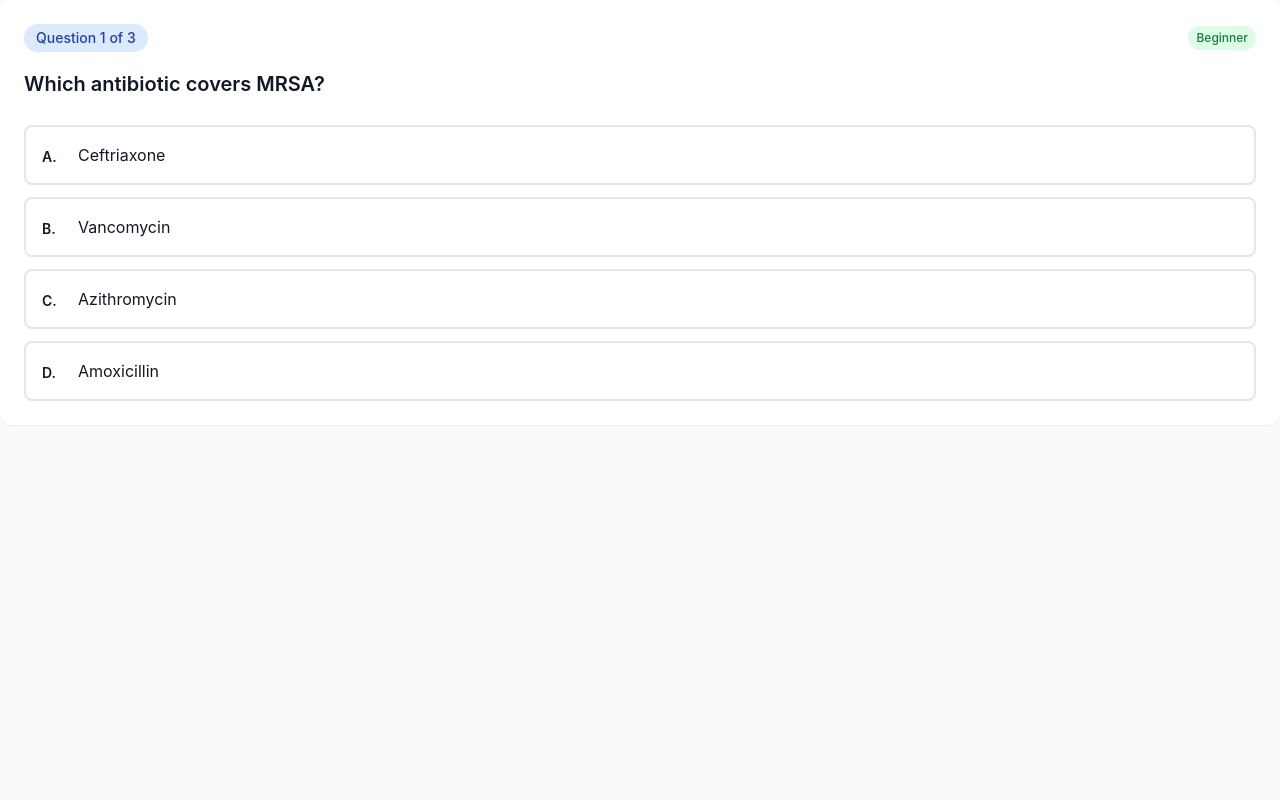
QuizSession › question flow › shows results after completing all questions
Answer question 1 (correct - Vancomycin is index 1)
Click the button with test id "option-1": point(124, 226) [24, 196, 1256, 256]
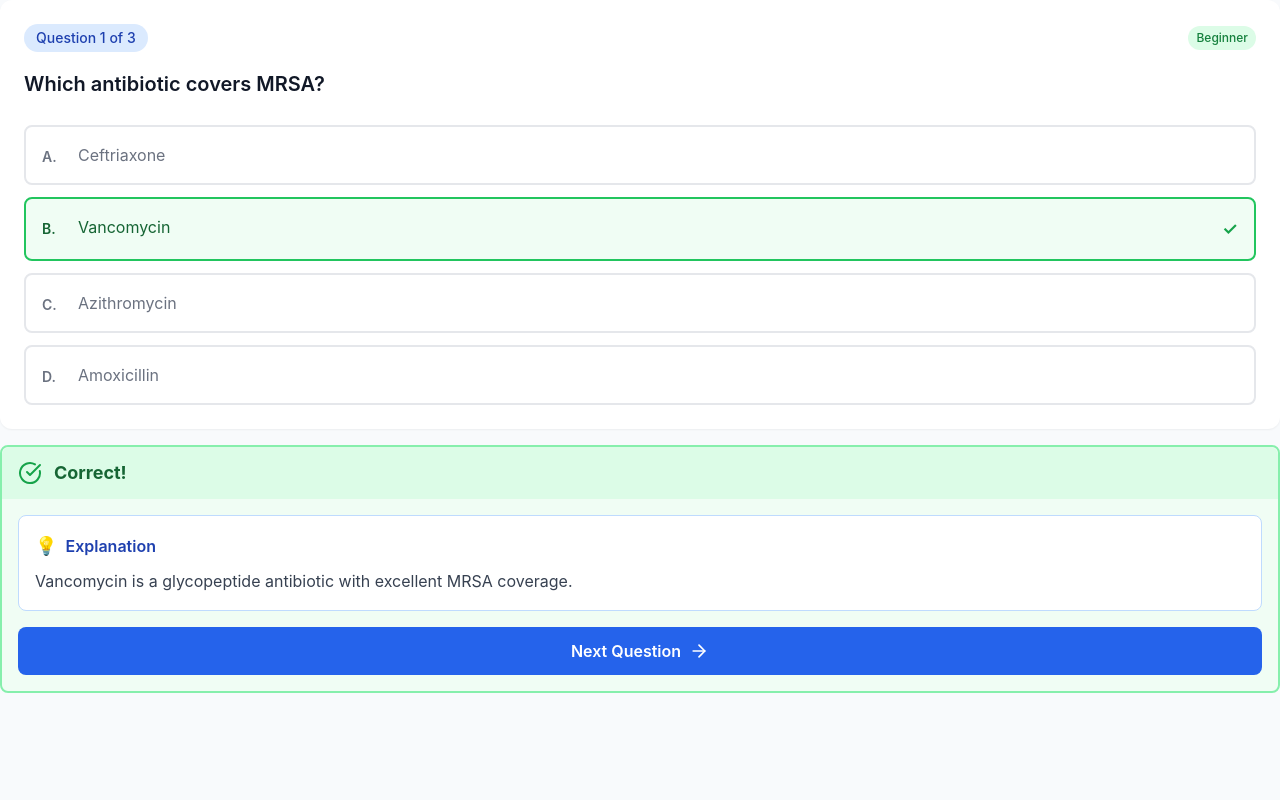
Click the button with test id "next-button": point(640, 650) [18, 626, 1262, 674]
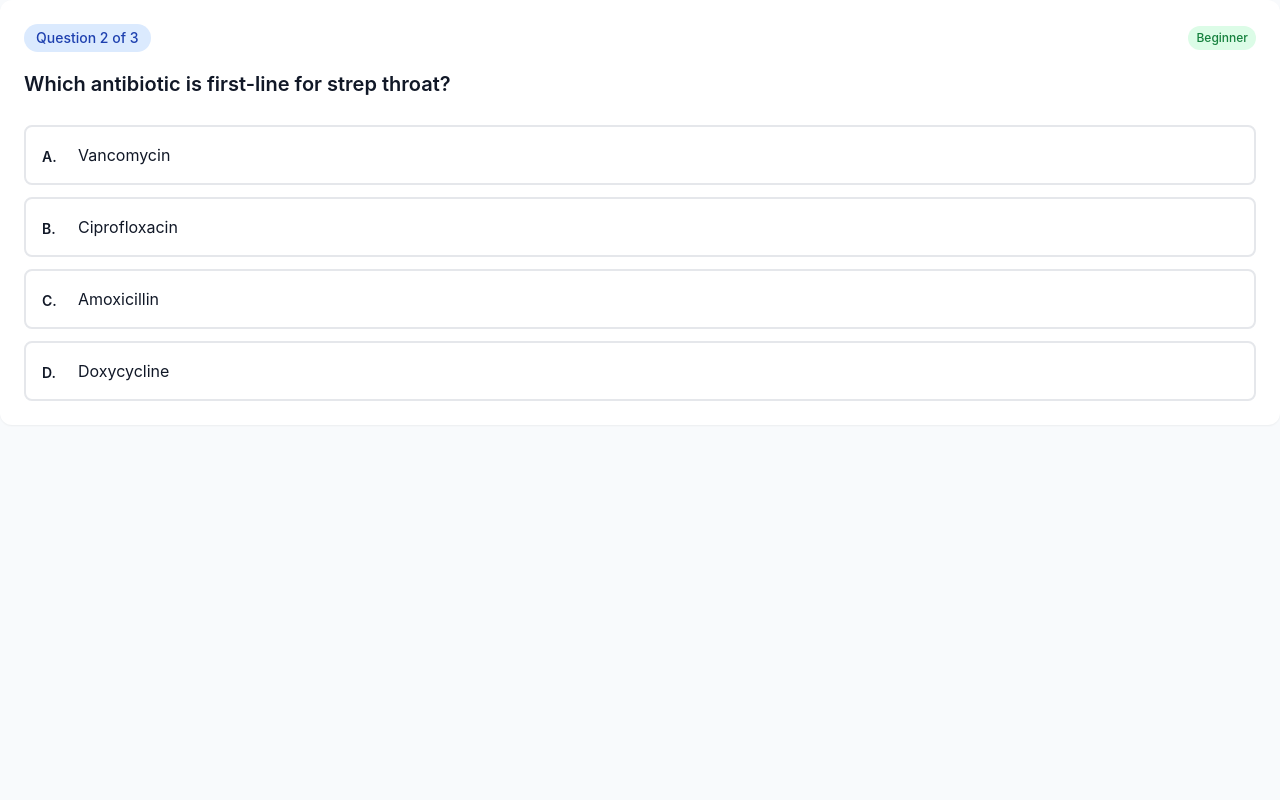
Answer question 2 (correct - Amoxicillin is index 2)
Click the button with test id "option-2": point(118, 298) [24, 268, 1256, 328]
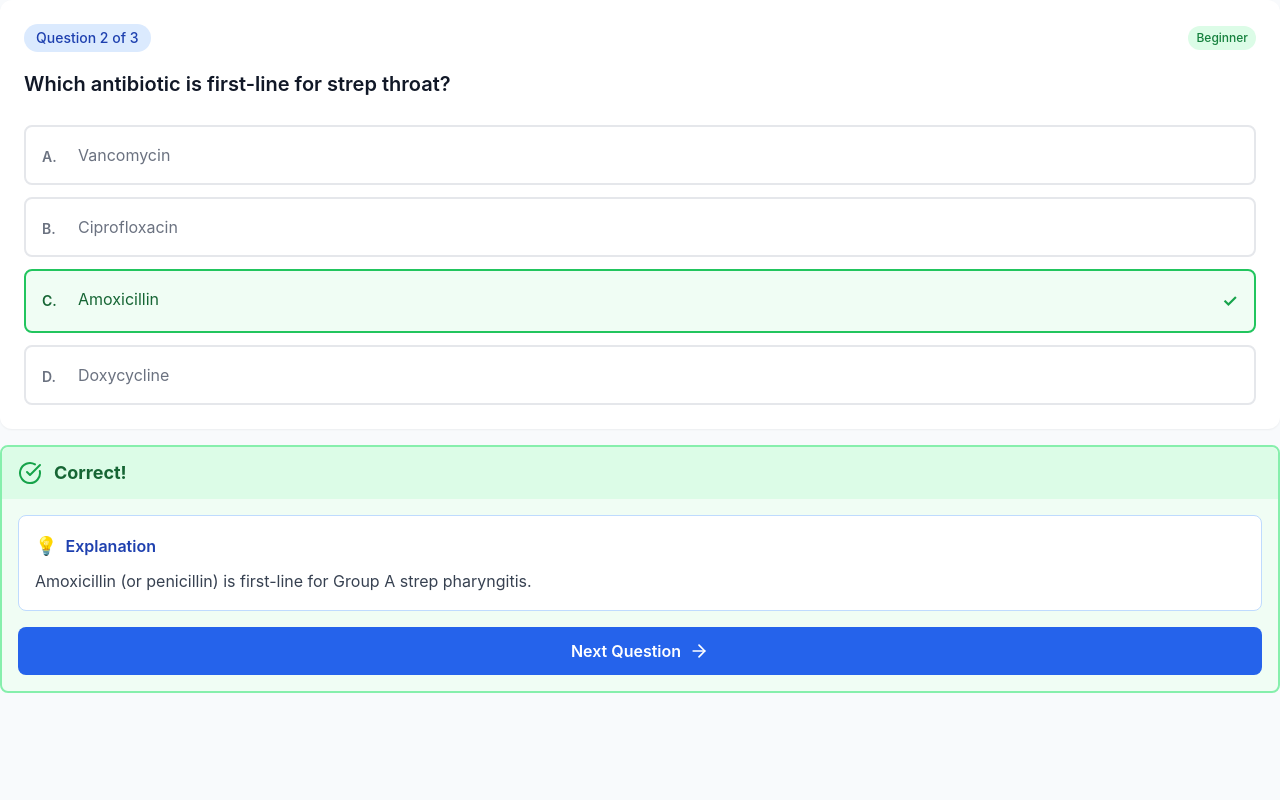
Click the button with test id "next-button": point(640, 650) [18, 626, 1262, 674]
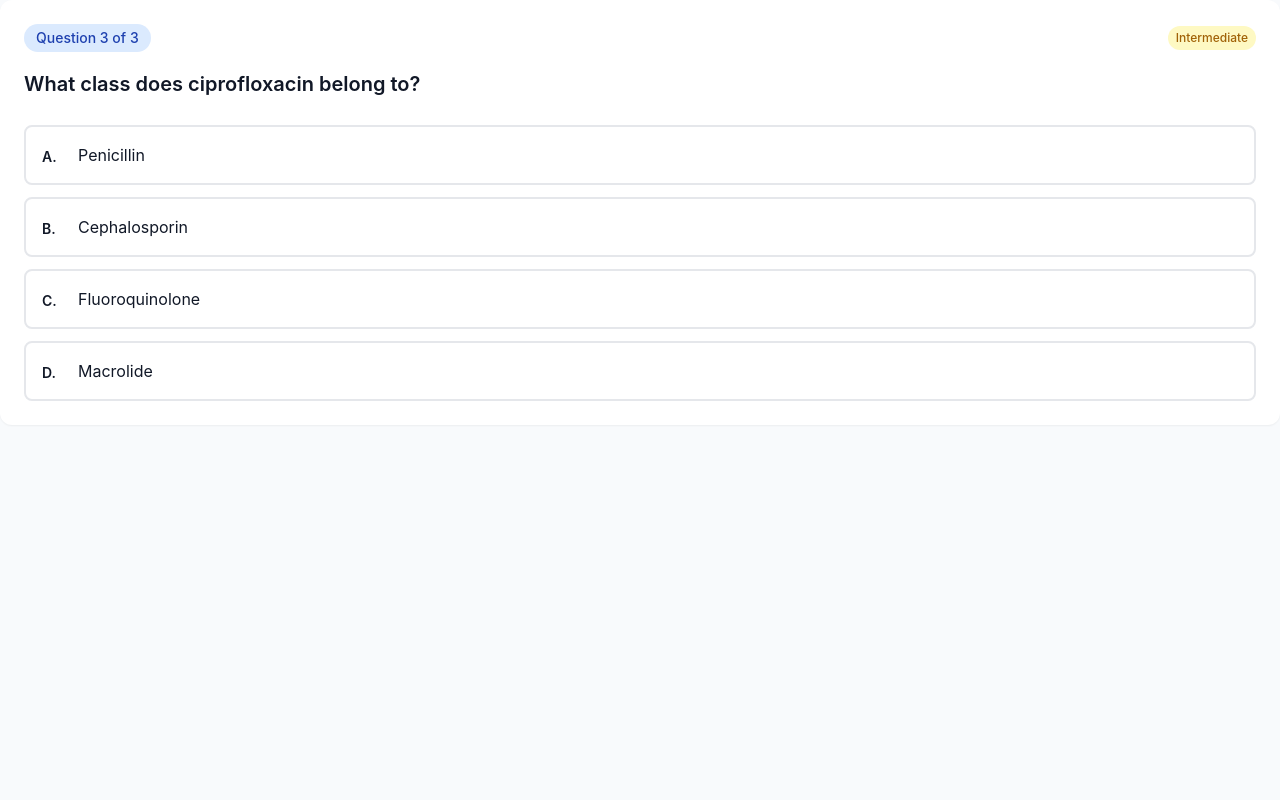
Answer question 3 (correct - Fluoroquinolone is index 2)
Click the button with test id "option-2": point(139, 298) [24, 268, 1256, 328]
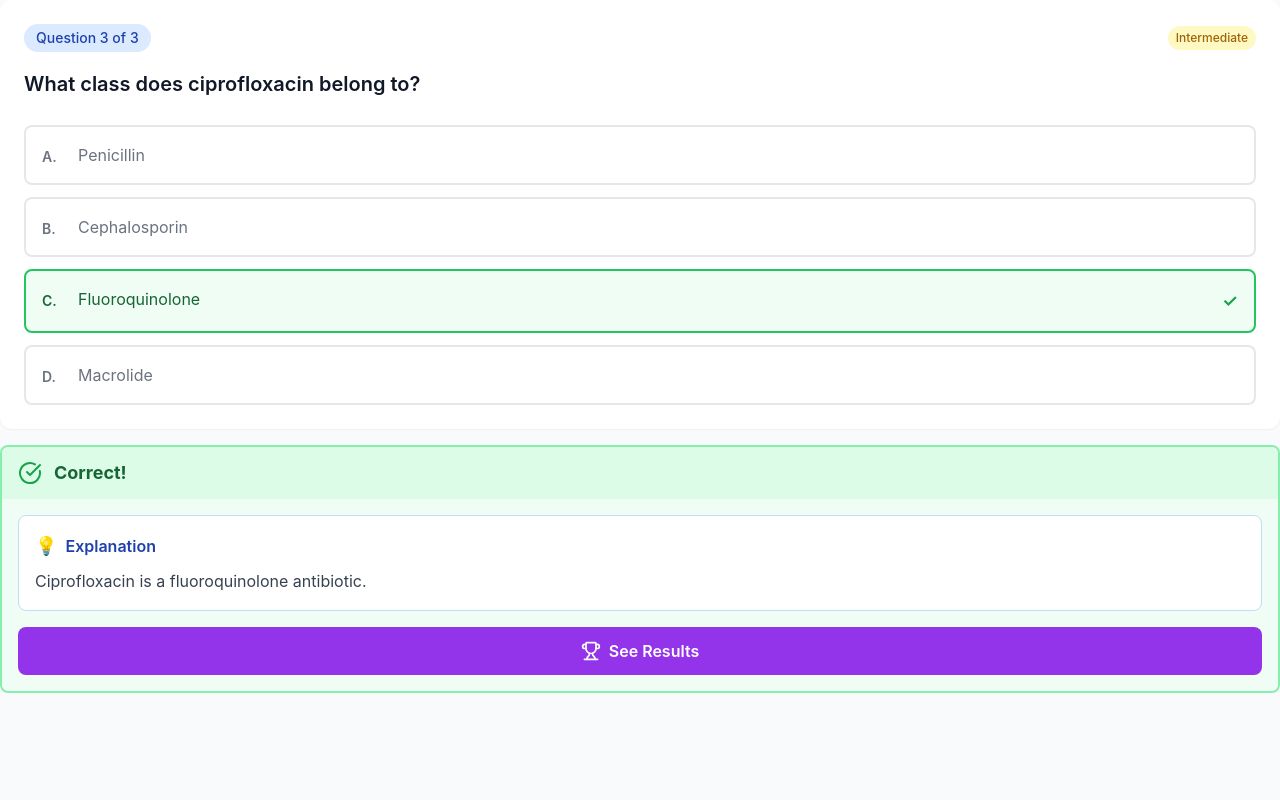
Click the button with test id "next-button": point(640, 650) [18, 626, 1262, 674]
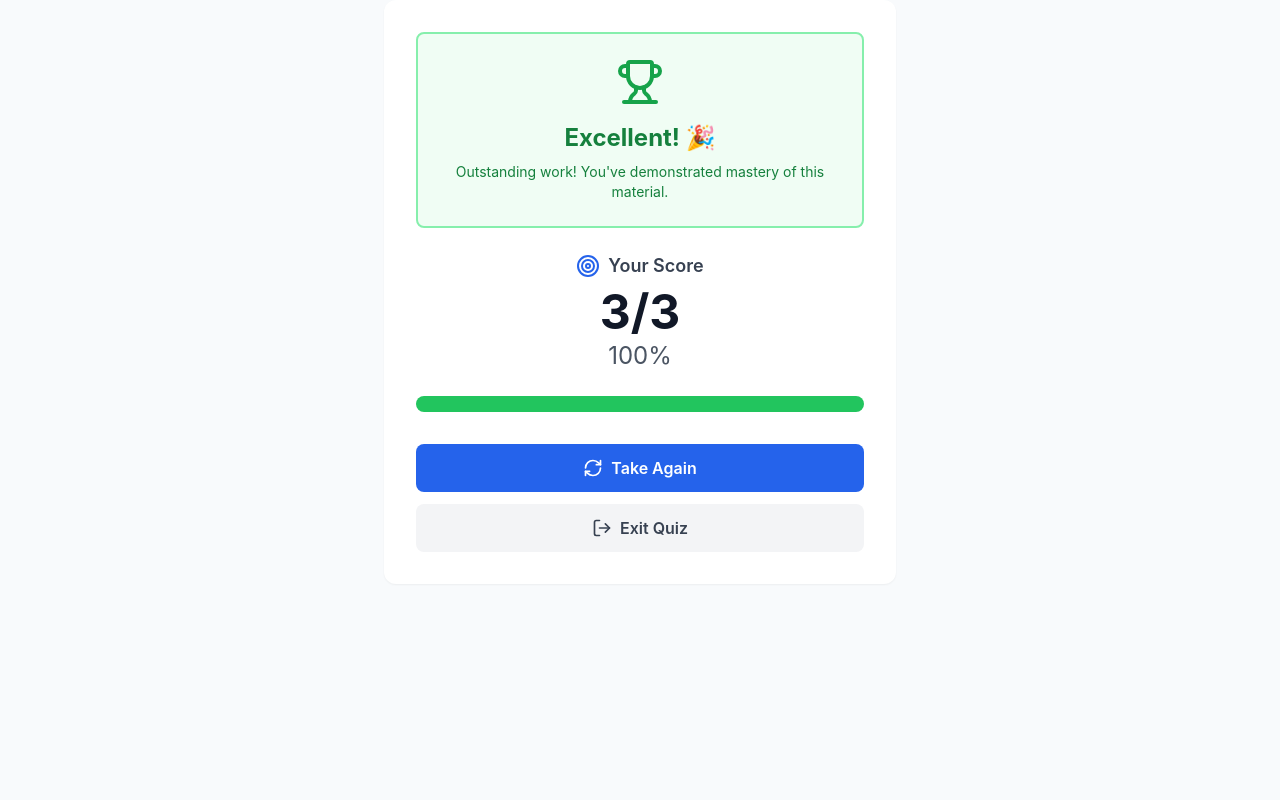
Check: the element with test id "quiz-results" is shown, box [384, 0, 896, 584]
